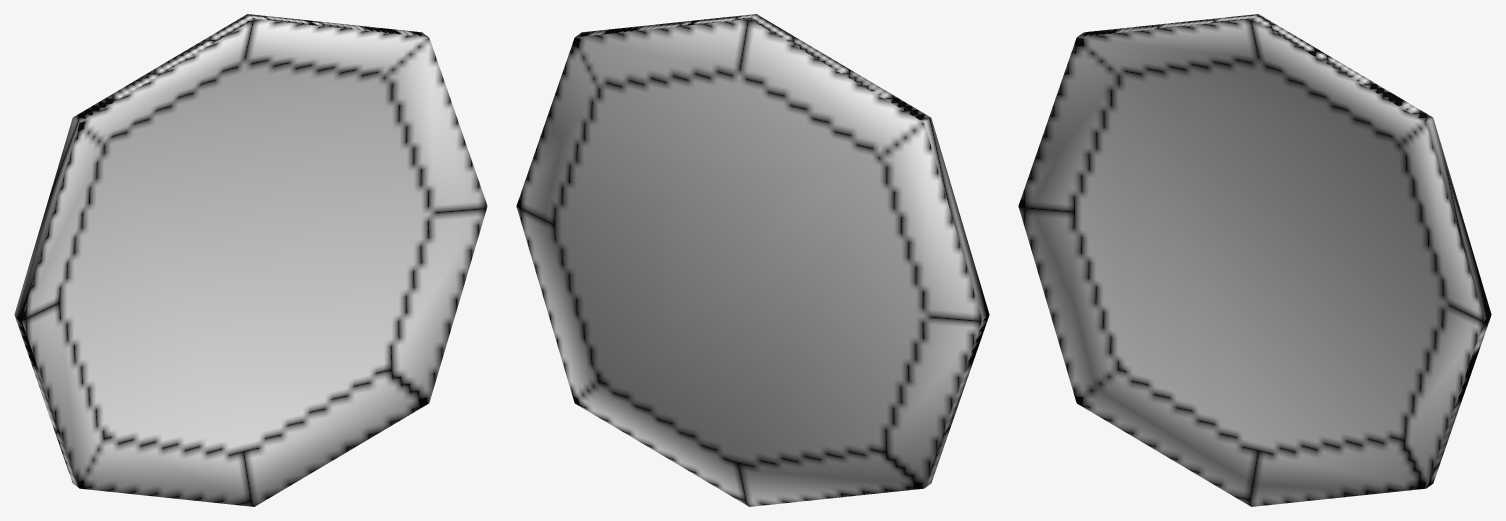
Rendered from Plate.obj.
3 renders of one model, left to right at view 1: azimuth 30°, elevation 25°; view 2: azimuth 150°, elevation 25°; view 3: azimuth 330°, elevation 25°, orthographic.
Visible parts, largest first — view 1: Cube2; view 2: Cube2; view 3: Cube2.
Boxes of the visible parts, x1,y1,x2,y2 form: Cube2: (14, 14, 487, 506); Cube2: (516, 14, 989, 506); Cube2: (1018, 14, 1491, 506).
Bounding box in the file's own units: 2 × 2 × 0.1179.
Materials: 1 (1 with a texture image).
